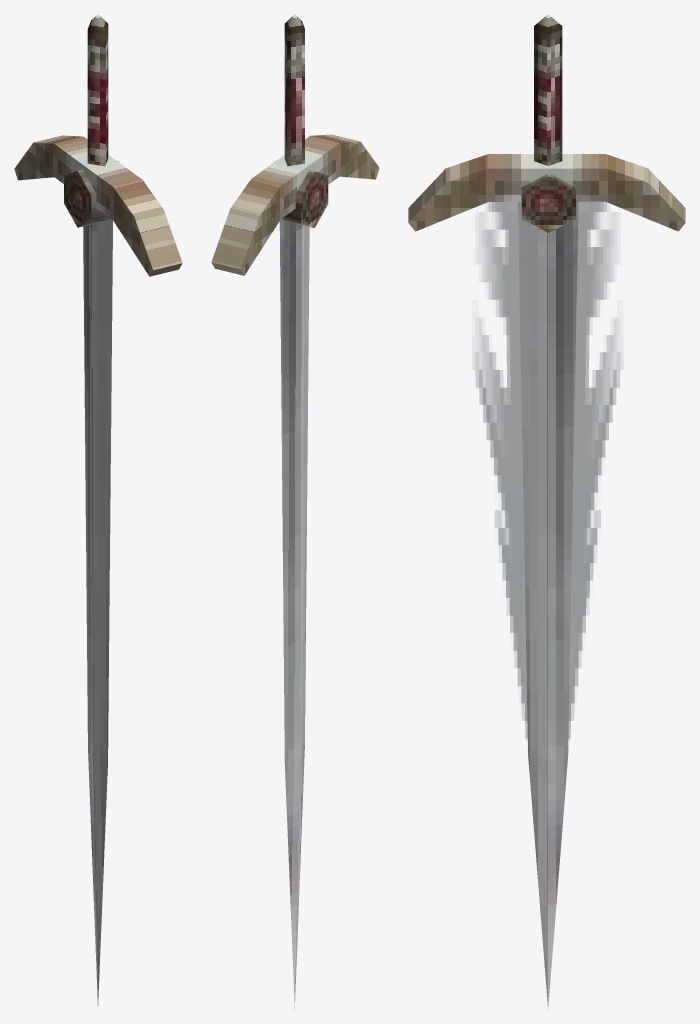
Rendered from Sword10.glb.
The picture shows the model from 3 angles, left to right: view 1: azimuth 30°, elevation 25°; view 2: azimuth 150°, elevation 25°; view 3: azimuth 270°, elevation 25°; orthographic projection.
Parts seen in each view (by area): view 1: model_Sword10; view 2: model_Sword10; view 3: model_Sword10.
Boxes of the visible parts, x1,y1,x2,y2 form: model_Sword10: (14, 14, 182, 1005); model_Sword10: (211, 14, 379, 1009); model_Sword10: (408, 14, 685, 1009).
Bounding box in the file's own units: 0.0742 × 1.74 × 0.4399.
Materials: 2 (2 with a texture image).
